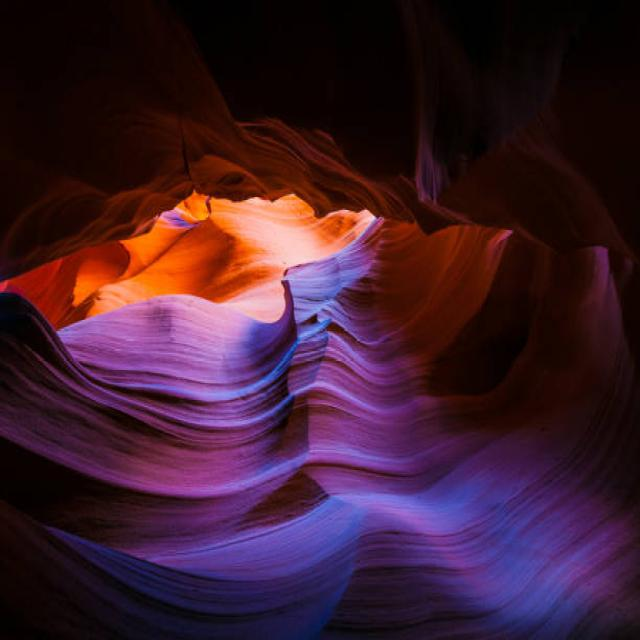Sedimentary: (4, 6, 640, 638)
